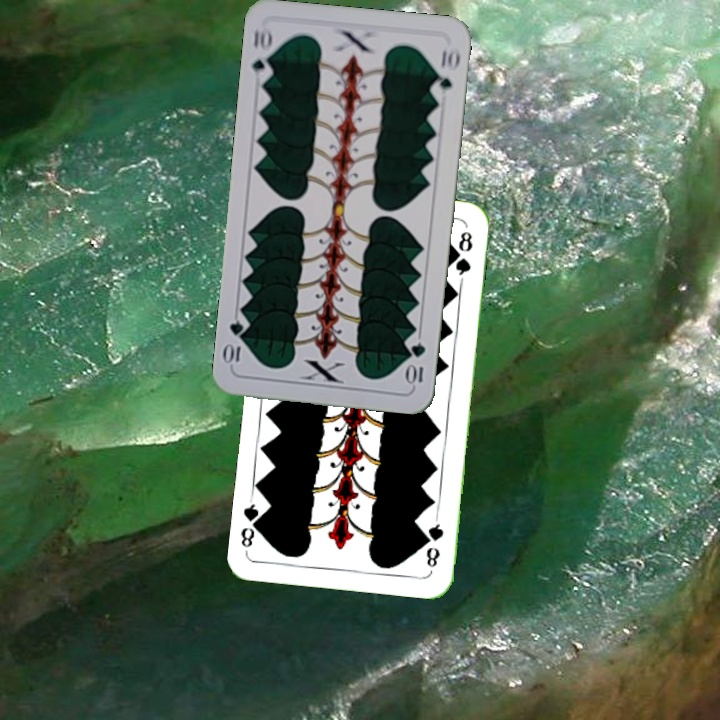G10: (248, 23, 276, 83), (404, 338, 428, 388)
G8: (422, 514, 447, 570)
